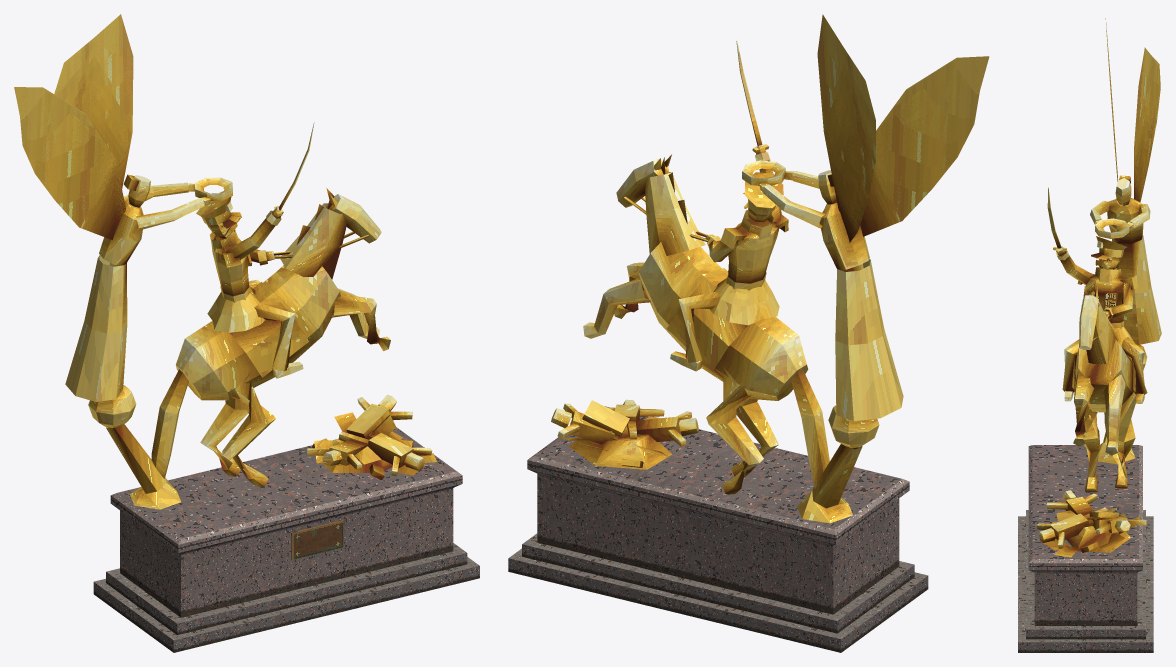
The model's file is env_statue_gold.glb.
The picture shows the model from 3 angles, left to right: view 1: azimuth 30°, elevation 25°; view 2: azimuth 150°, elevation 25°; view 3: azimuth 270°, elevation 25°; orthographic projection. The views are drawn at different scales.
Parts seen in each view (by area): view 1: env_statue_gold; view 2: env_statue_gold; view 3: env_statue_gold.
Boxes of the visible parts, x1,y1,x2,y2 form: env_statue_gold: (14, 14, 479, 652); env_statue_gold: (508, 14, 989, 652); env_statue_gold: (1018, 18, 1161, 652).
Size of the model in its own units: 0.0208 by 0.0278 by 0.00742.
Materials: 2 (2 with a texture image).
